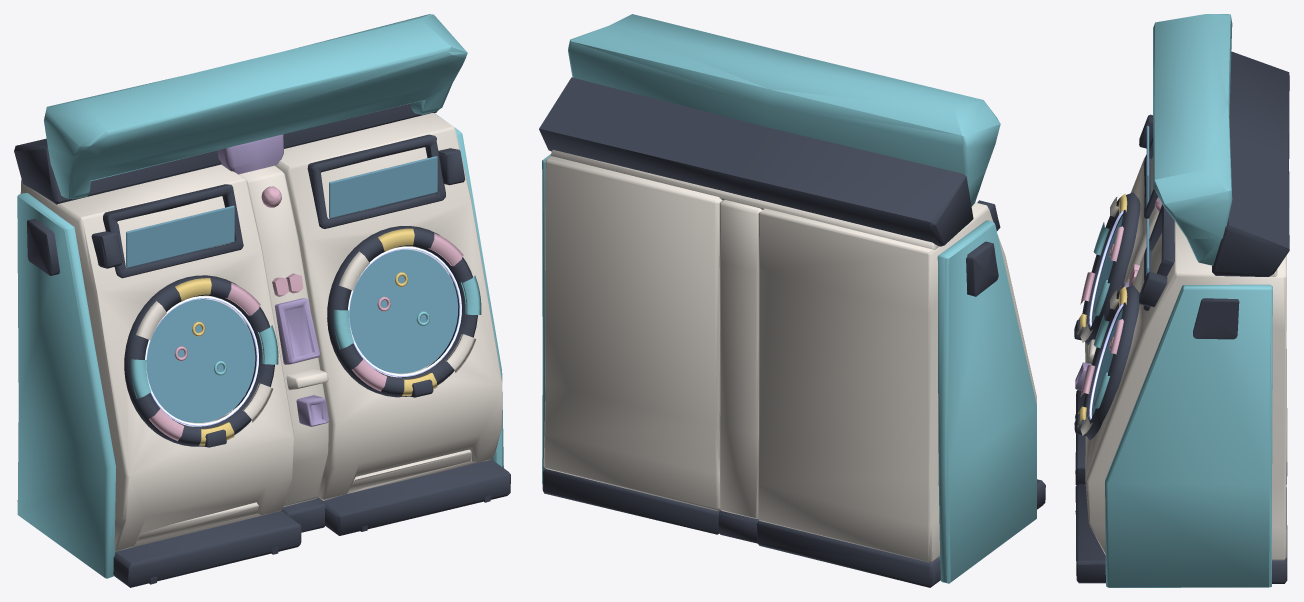
File: gaming_maimai.glb
3 renders of one model, left to right at view 1: azimuth 30°, elevation 25°; view 2: azimuth 150°, elevation 25°; view 3: azimuth 270°, elevation 25°, orthographic. The views are drawn at different scales.
Size of the model in its own units: 3.1 by 3.1 by 1.49.
